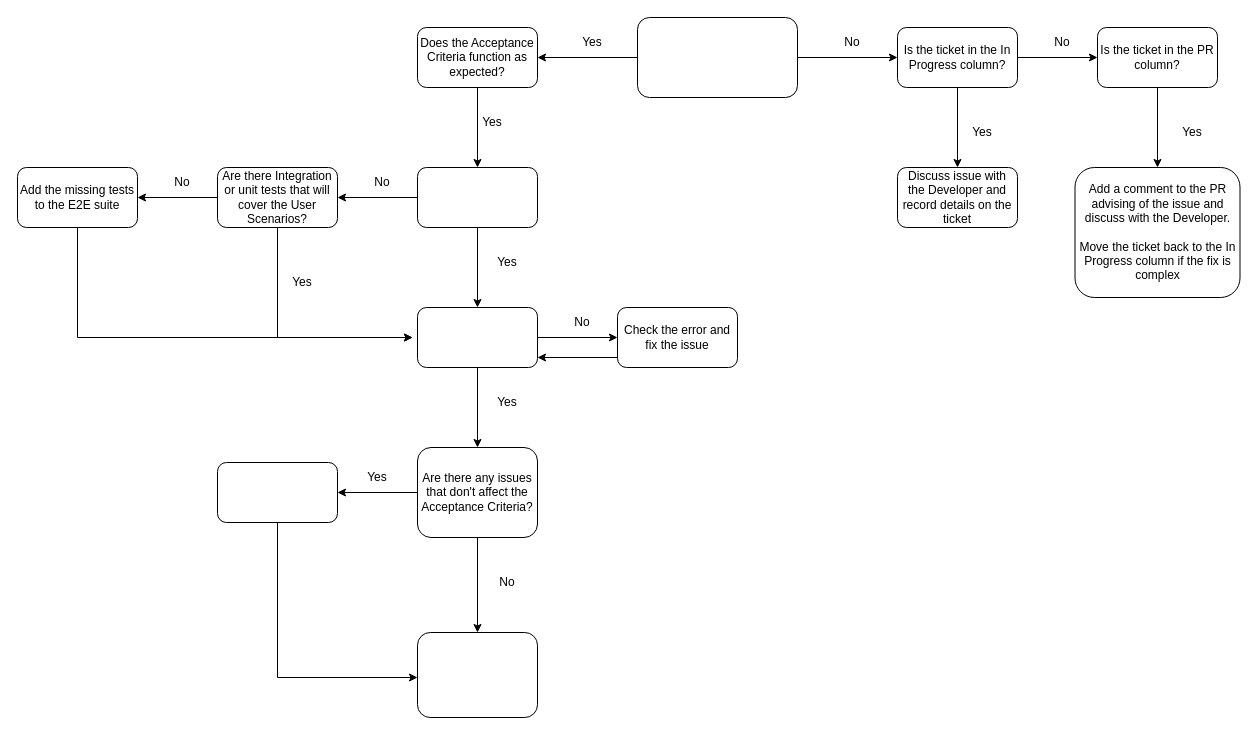
Some shapes in this 1258 by 735 pixel diagram are drawn without their labels. Here are the shapes that lost their labels. From the top down, the box of each, then its label:
(636, 16, 798, 98): Does the ticket meet the Acceptance Criteria?
(416, 166, 538, 228): Are there E2E tests covering the User scenarios?
(416, 306, 538, 368): Are all the automated tests passing?
(216, 462, 338, 522): Raise a bug ticket and progress the original ticket to Done
(416, 632, 538, 718): Work has been completed. Move the ticket into Done.
